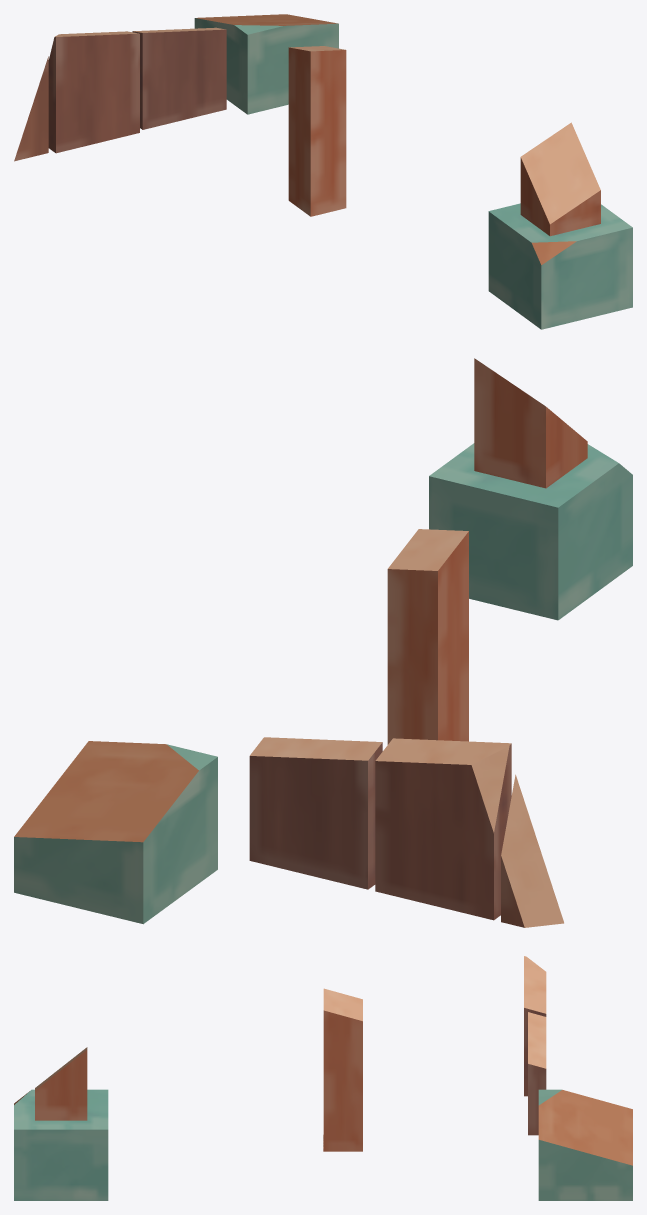
File: stall_s05.fbx
The picture shows the model from 3 angles, top to bottom: view 1: azimuth 30°, elevation 25°; view 2: azimuth 150°, elevation 25°; view 3: azimuth 270°, elevation 25°; orthographic projection. The views are drawn at different scales.
Parts seen in each view (by area): view 1: stall_s05; view 2: stall_s05; view 3: stall_s05.
Part boxes in pixels (box(x1,y1,x2,y2)): stall_s05: box(14, 14, 632, 329); stall_s05: box(14, 358, 632, 927); stall_s05: box(14, 956, 632, 1200).
Size of the model in its own units: 2.6 by 1.24 by 4.72.
